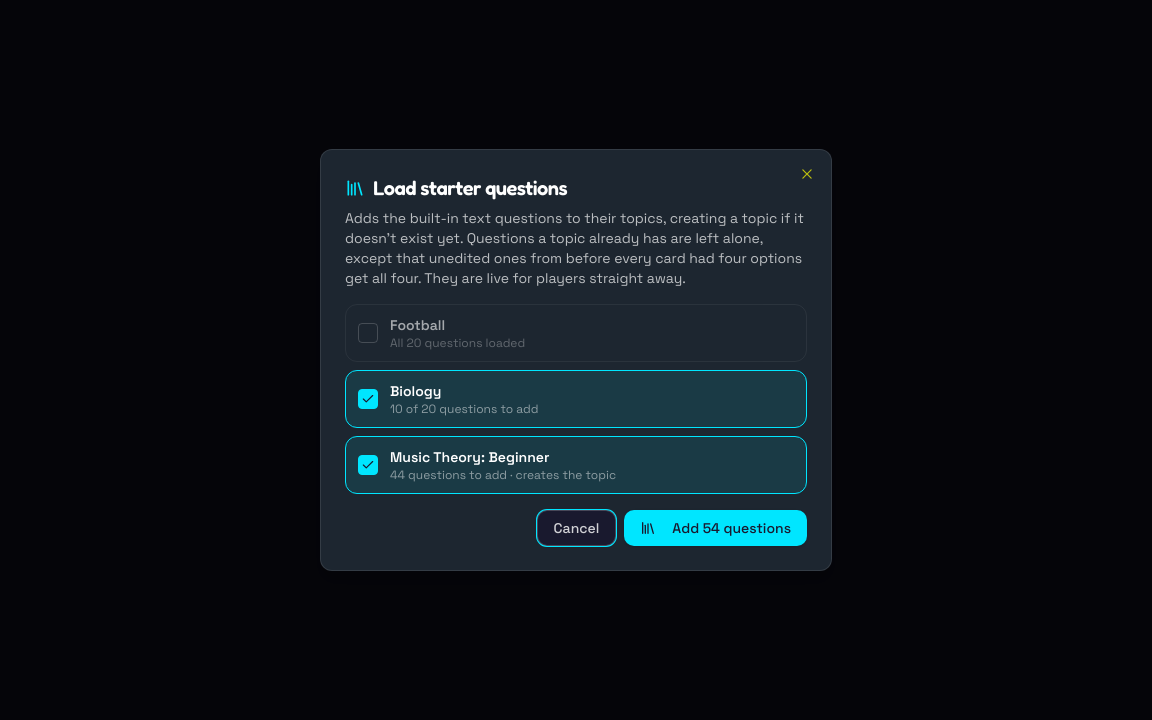
Test case: LoadStarterDialog › preselects the topics with something to add and reports what was added
Expected: the checkbox labelled "Football" is disabled, [345,304,807,362]
Expected: the checkbox labelled "Football" is not checked, [345,304,807,362]
Click the button "Add 54 questions": (716, 528) [624,510,807,546]
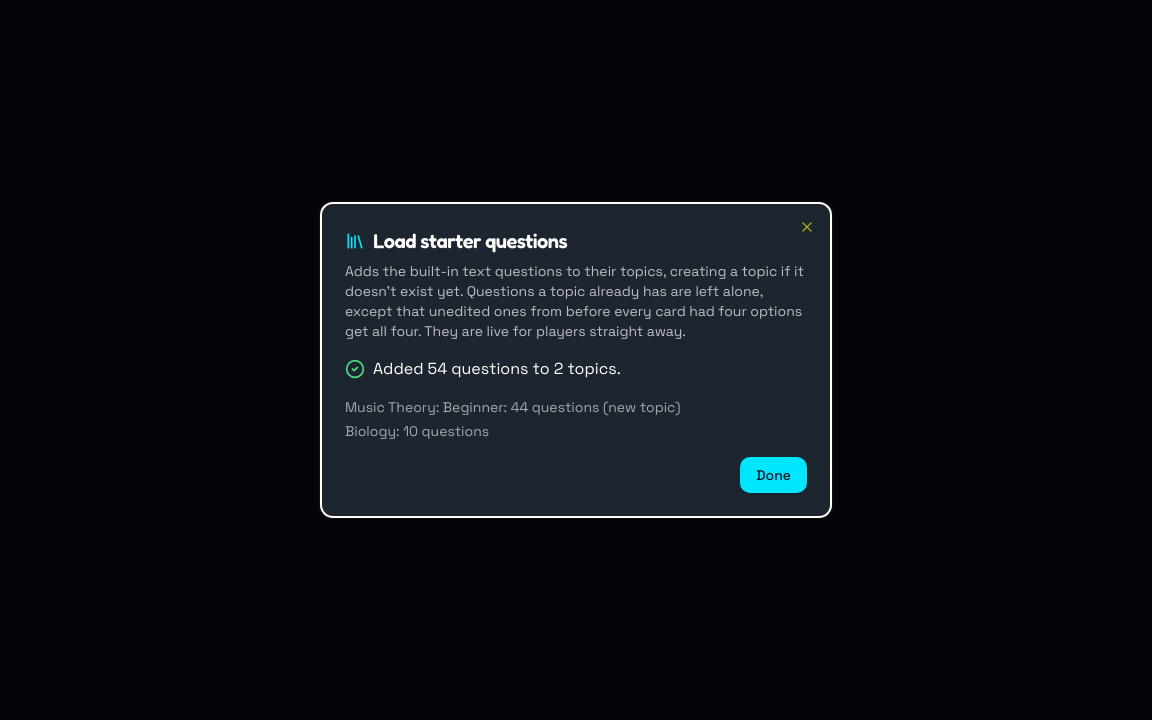
Expected: the text "Added 54 questions to 2 topics." is shown, [373,357,621,381]
Expected: the list item "Music Theory: Beginner: 44 questions (new topic)" is shown, [345,398,681,416]
